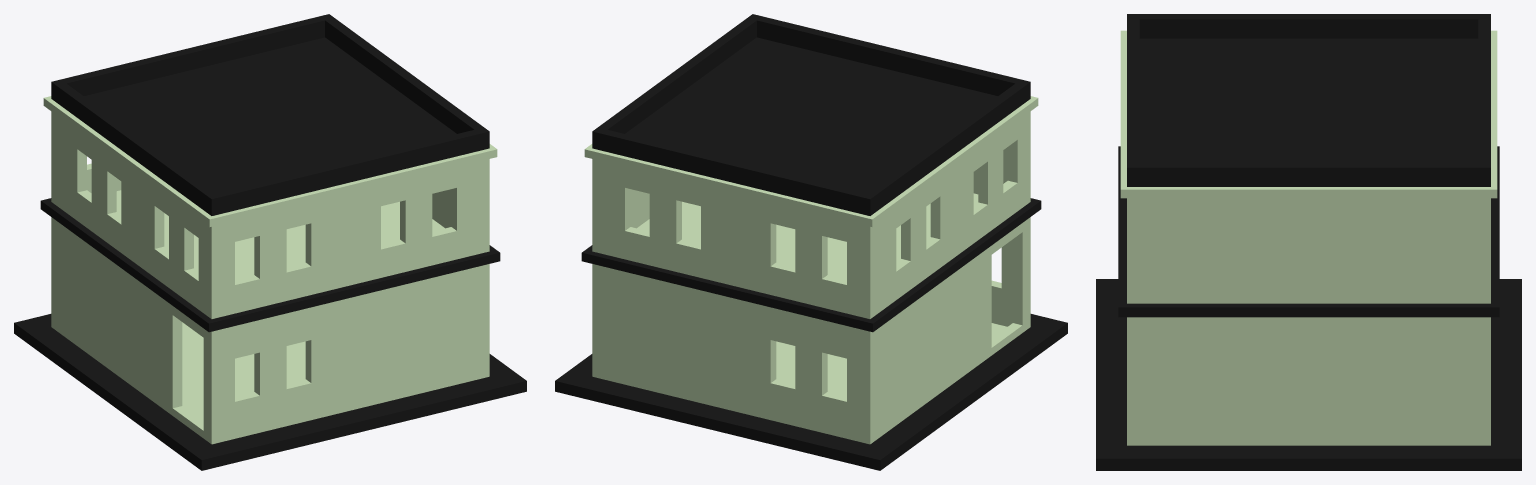
Rendered from small_house_02.fbx.
3 views of the same model, side by side, from view 1: azimuth 30°, elevation 25°; view 2: azimuth 150°, elevation 25°; view 3: azimuth 270°, elevation 25° (orthographic). The views are drawn at different scales.
Parts seen in each view (by area): view 1: Cube.005; view 2: Cube.005; view 3: Cube.005.
Boxes of the visible parts, box(x1,y1,x2,y2) form: Cube.005: box(14, 14, 526, 470); Cube.005: box(555, 14, 1067, 470); Cube.005: box(1096, 14, 1521, 470).
Bounding box in the file's own units: 387 × 291 × 387.
